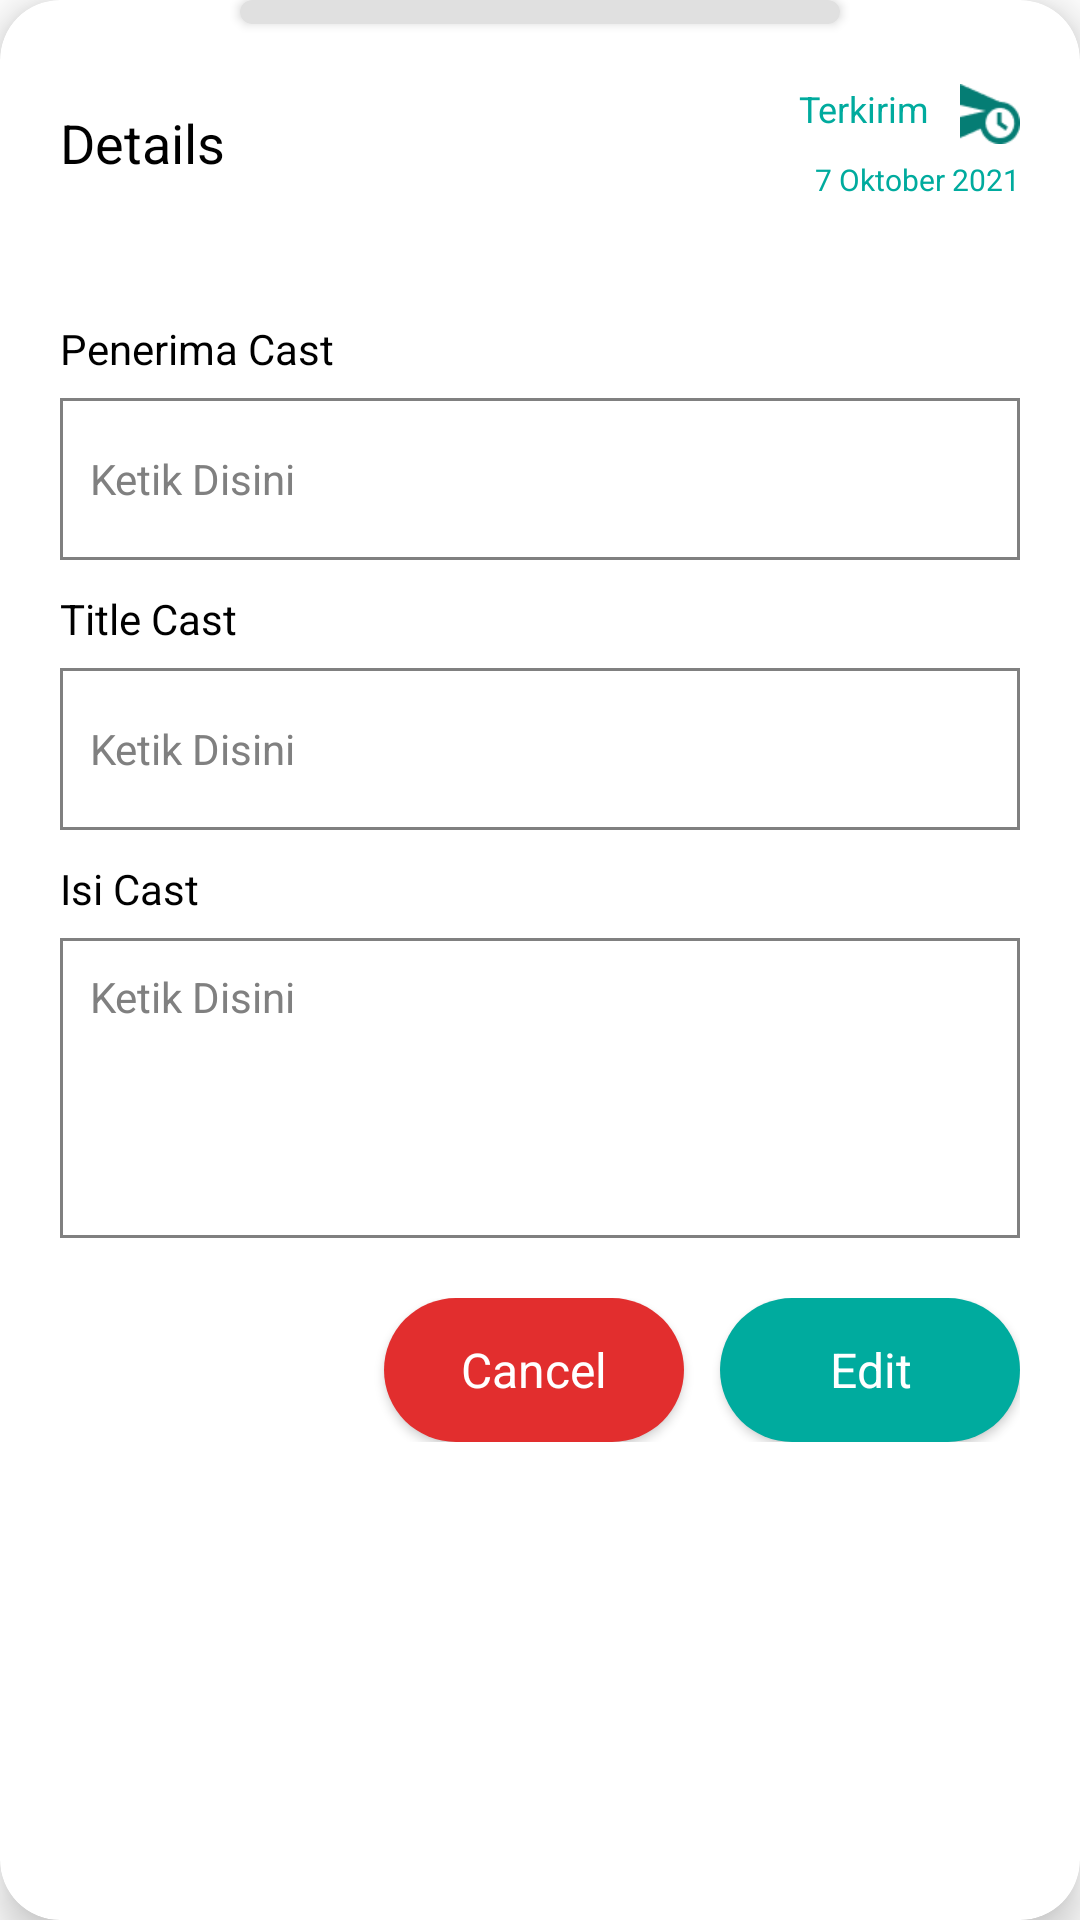

Icon bounding boxes for this 1080×1920 phone screenshot, format BBox(x1, y1, x2, y2):
schedule in: BBox(960, 84, 1020, 144)
